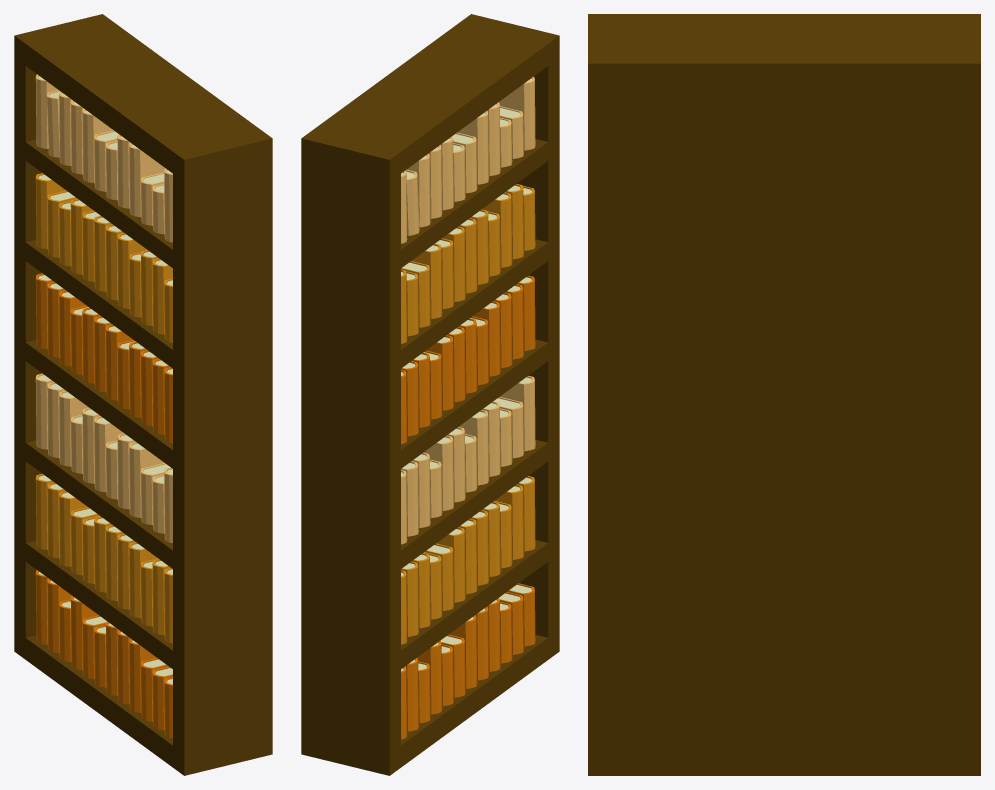
The model's file is bookCase_filled.fbx.
3 renders of one model, left to right at view 1: azimuth 30°, elevation 25°; view 2: azimuth 150°, elevation 25°; view 3: azimuth 270°, elevation 25°, orthographic. The views are drawn at different scales.
Visible parts, largest first — view 1: bookCase_filled; view 2: bookCase_filled; view 3: bookCase_filled.
Part boxes in pixels (x1=…): bookCase_filled: x1=14, y1=14, x2=272, y2=775; bookCase_filled: x1=301, y1=14, x2=559, y2=775; bookCase_filled: x1=588, y1=14, x2=980, y2=775.
Bounding box in the file's own units: 30 × 200 × 100.
